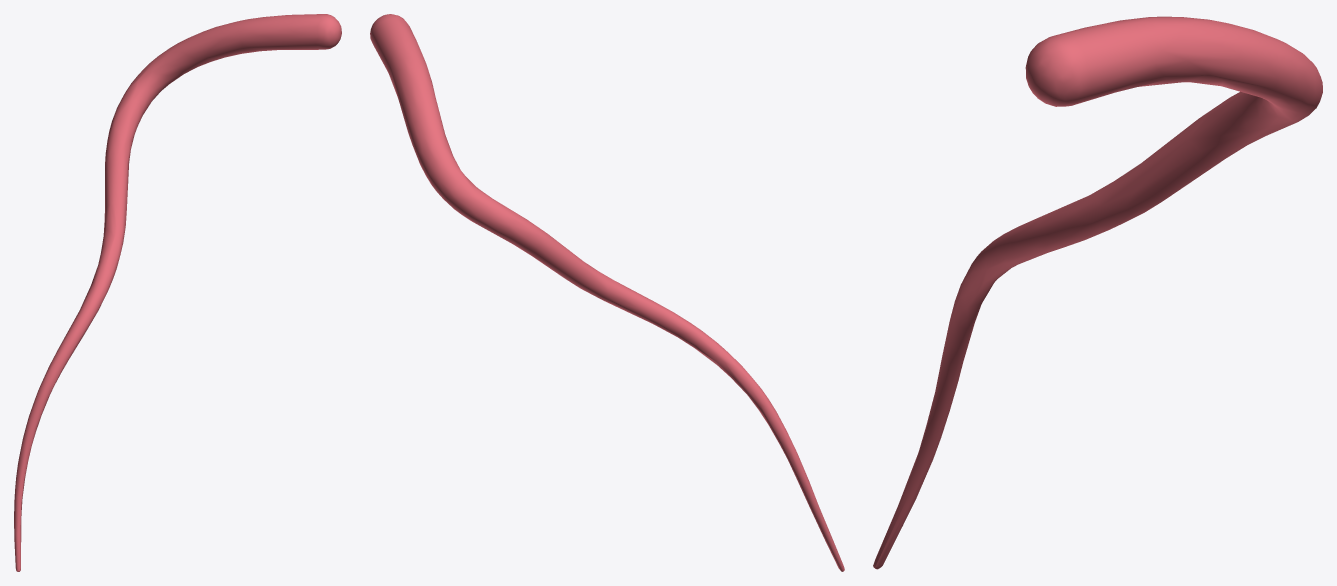
Rendered from fma15797_fj3118.glb.
3 renders of one model, left to right at view 1: azimuth 30°, elevation 25°; view 2: azimuth 150°, elevation 25°; view 3: azimuth 270°, elevation 25°, orthographic. The views are drawn at different scales.
Visible parts, largest first — view 1: FMA15797_FJ3118; view 2: FMA15797_FJ3118; view 3: FMA15797_FJ3118.
Part boxes in pixels (bbox=[...]): FMA15797_FJ3118: bbox=[14, 14, 341, 571]; FMA15797_FJ3118: bbox=[370, 14, 844, 571]; FMA15797_FJ3118: bbox=[873, 16, 1322, 569].
Size of the model in its own units: 0.0812 by 0.0918 by 0.0429.
